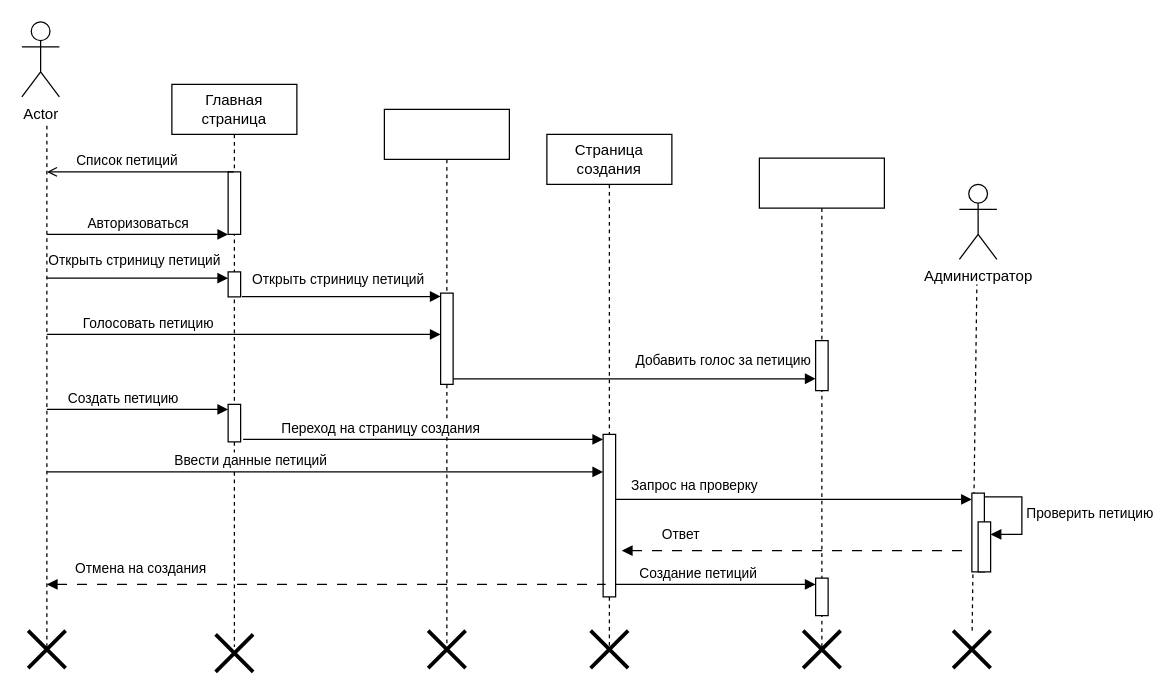
Image size: 1176x695. Some labels were removed from this diagram. The centre of each missing label's shape, as x and y in pixels:
"БД" goes at pixel 821 402.
"Страница петиций" goes at pixel 446 377.
